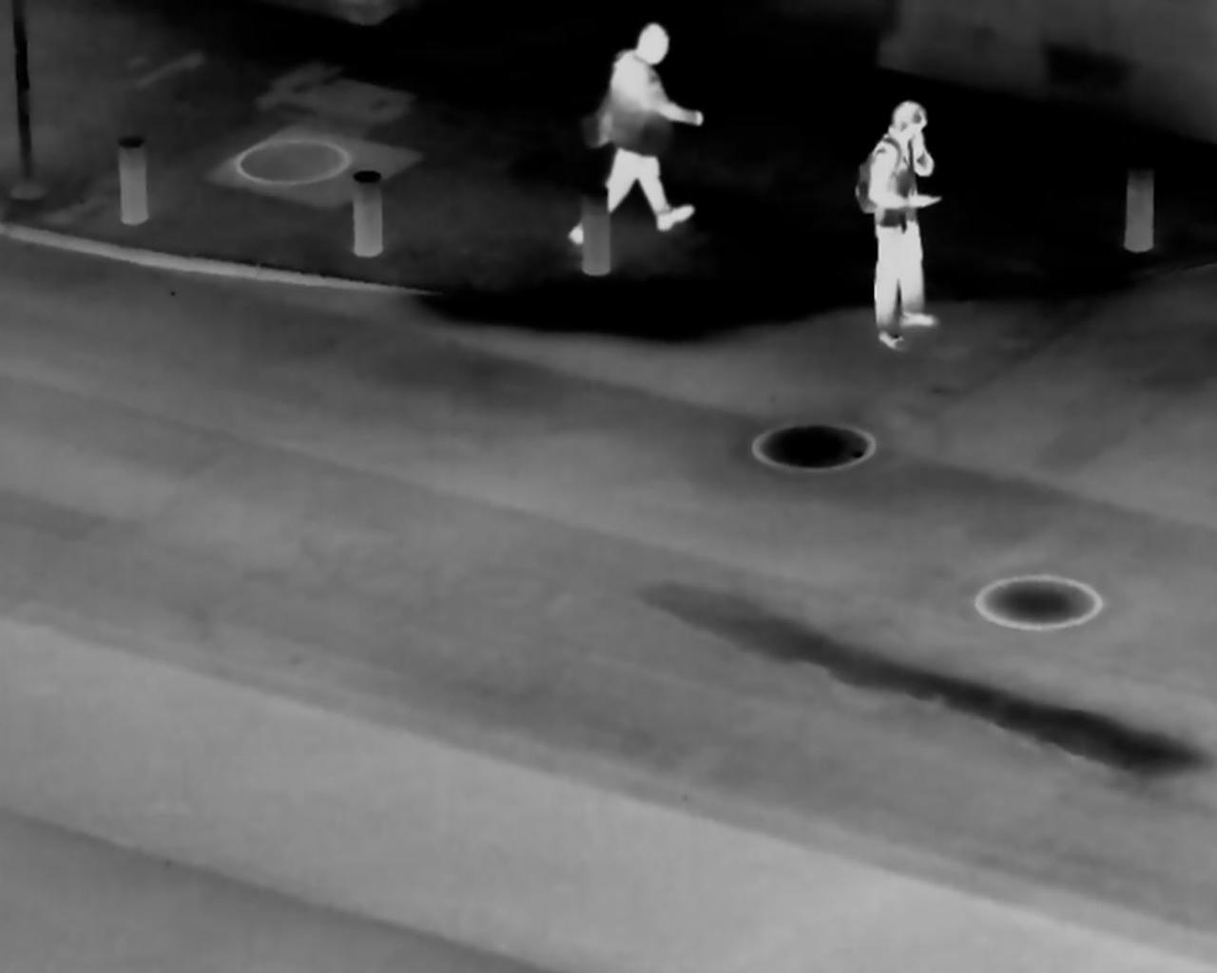person: (849, 93, 955, 360), (582, 19, 702, 250)
